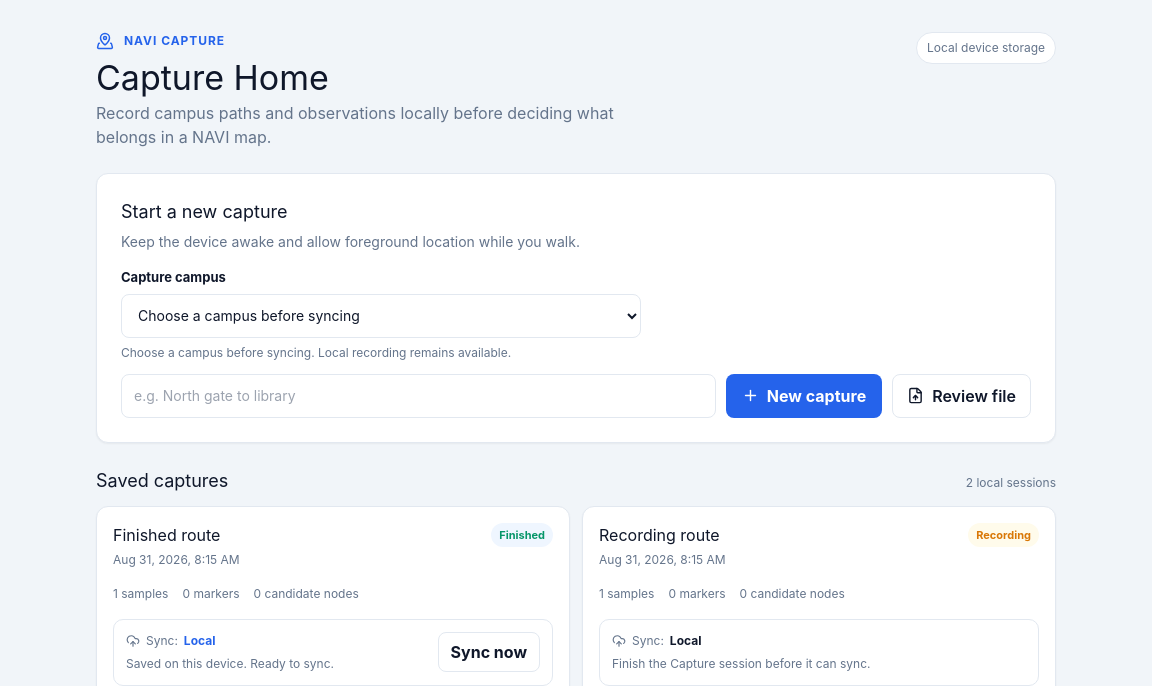
Test: Capture Sync UI composition › shows Conflict without offering silent overwrite
Click the button with aria-label "Sync now for Finished route": (489, 652) left=438, top=632, right=540, bottom=672
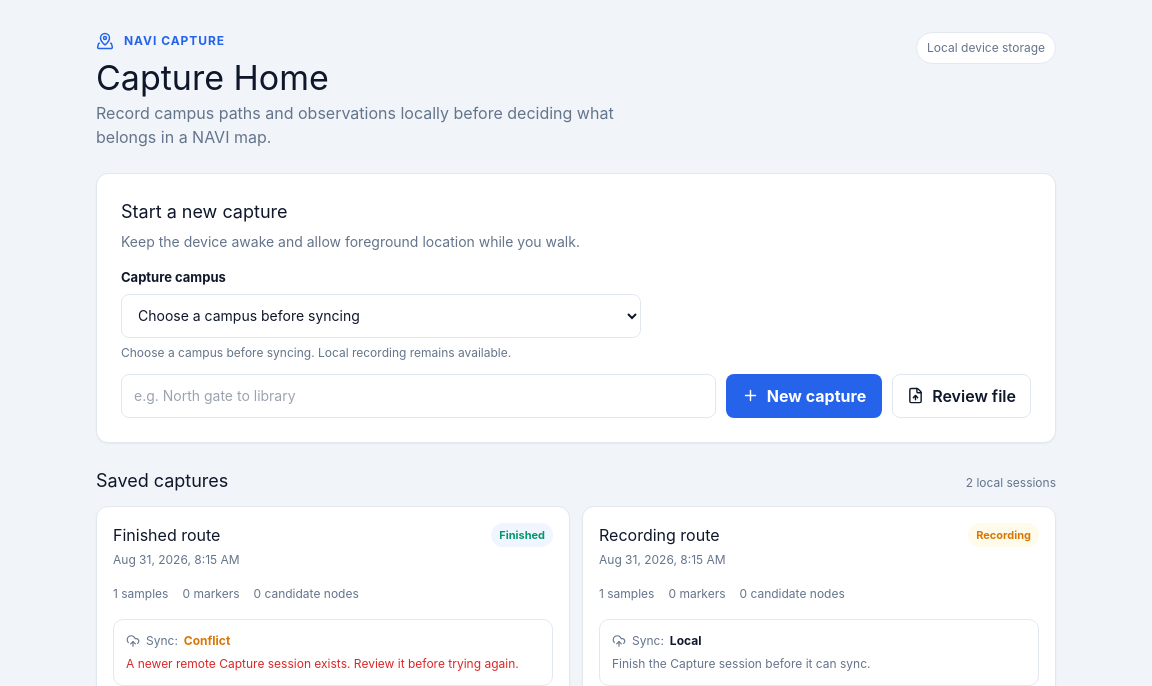
Expected: the text "Conflict" is shown, left=184, top=632, right=230, bottom=650
